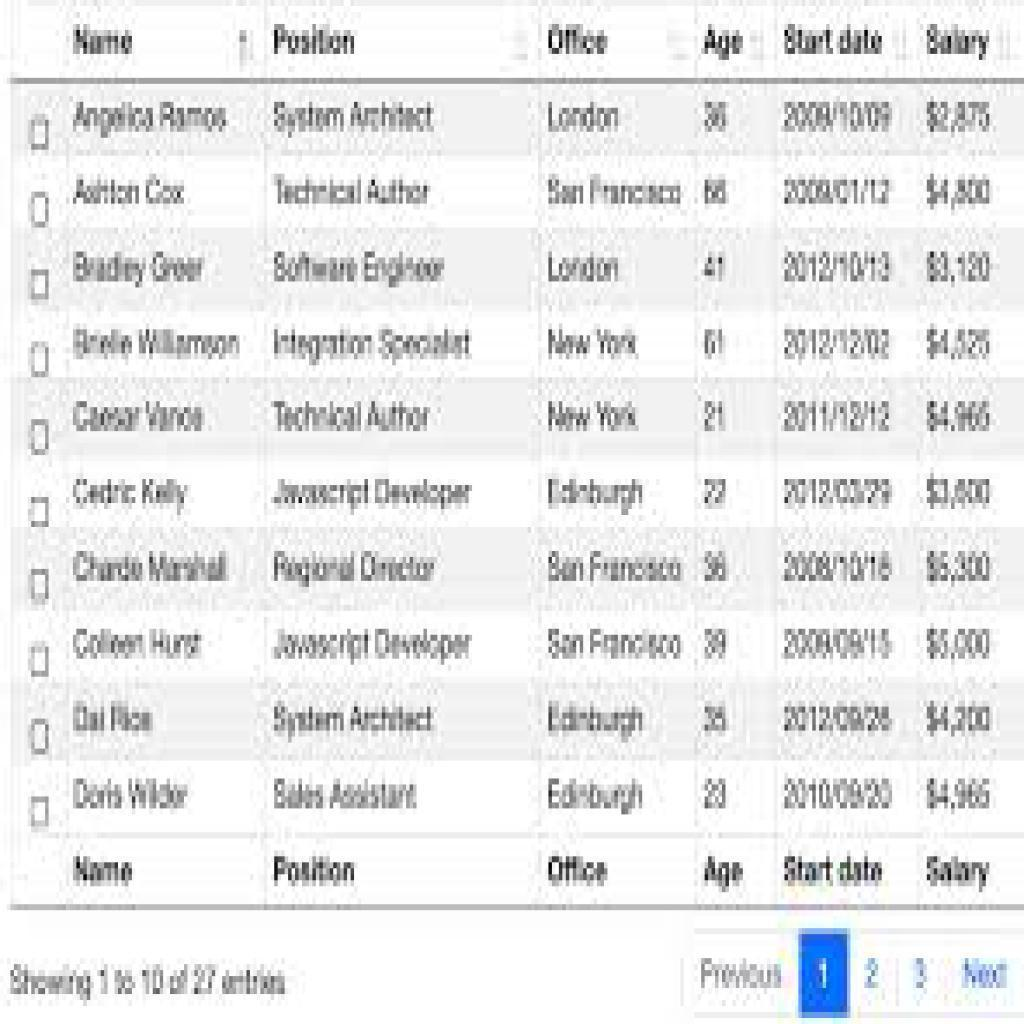checkbox: (26, 113, 53, 155), (28, 190, 55, 232), (29, 416, 54, 460), (28, 717, 53, 760), (28, 339, 54, 380), (27, 644, 54, 683), (27, 266, 54, 304), (29, 568, 54, 609), (27, 495, 52, 533), (28, 796, 52, 830)
table: (13, 7, 1024, 906)
